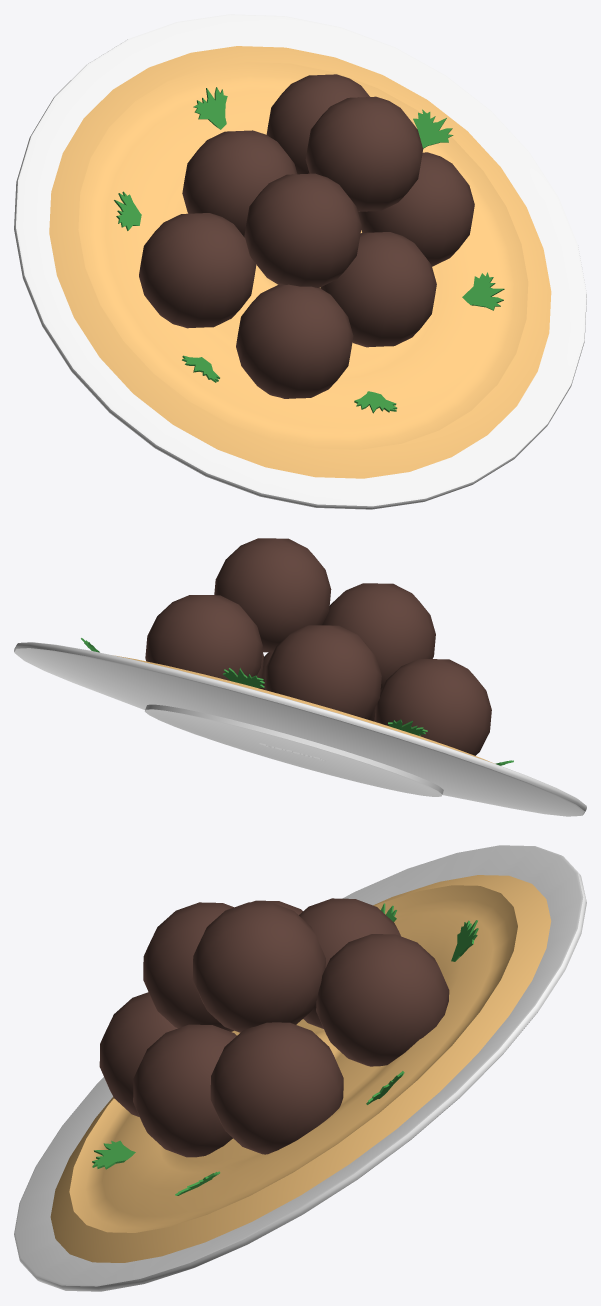
The model's file is falafel.glb.
The picture shows the model from 3 angles, top to bottom: view 1: azimuth 30°, elevation 25°; view 2: azimuth 150°, elevation 25°; view 3: azimuth 270°, elevation 25°; orthographic projection. The views are drawn at different scales.
Visible parts, largest first — view 1: Circle.2215; view 2: Circle.2215; view 3: Circle.2215.
Part boxes in pixels (x1,y1,x2,y2): Circle.2215: [14, 14, 586, 509]; Circle.2215: [14, 538, 586, 816]; Circle.2215: [14, 845, 586, 1291].
Size of the model in its own units: 2.33 by 1.34 by 1.96.
1 material, 1 textured.
